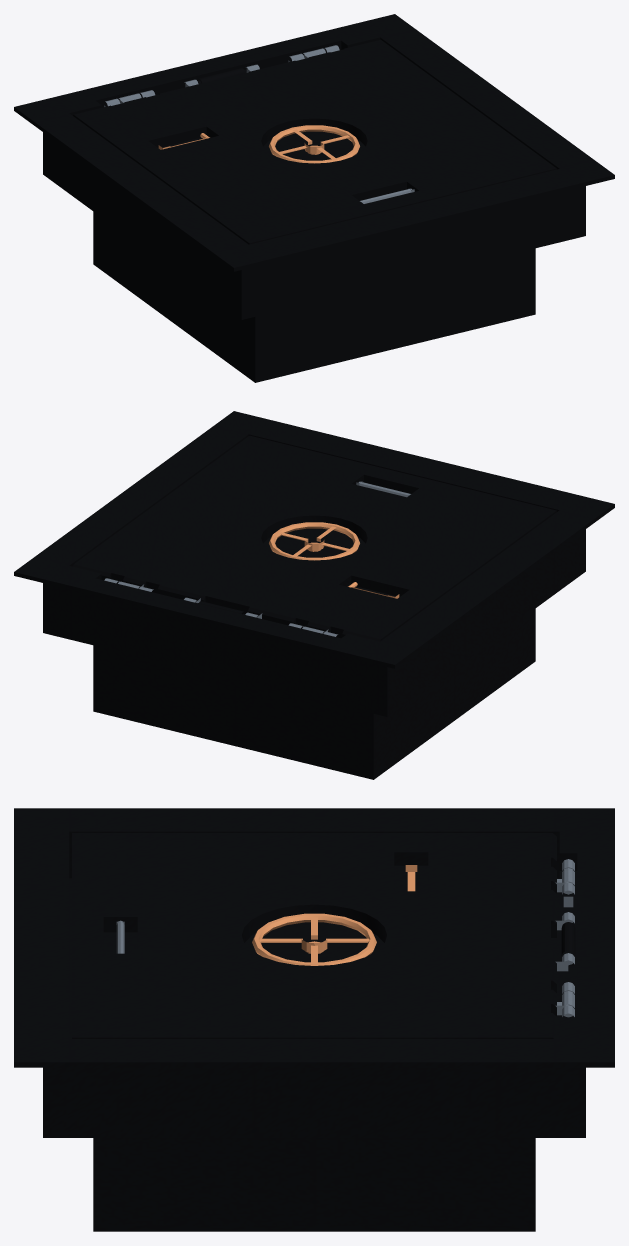
3 views of the same model, one above another, from view 1: azimuth 30°, elevation 25°; view 2: azimuth 150°, elevation 25°; view 3: azimuth 270°, elevation 25° (orthographic). The views are drawn at different scales.
Visible parts, largest first — view 1: hatch_frame, hatch_leaf_shell, hatch_OverrideOrange_Handwheel; view 2: hatch_frame, hatch_leaf_shell, hatch_OverrideOrange_Handwheel; view 3: hatch_frame, hatch_leaf_shell, hatch_OverrideOrange_Handwheel, hatch_HingeHeavy_leaf, hatch_HingeHeavy_frame.
Part boxes in pixels (x1,y1,x2,y2): hatch_frame: (14, 14, 614, 382); hatch_leaf_shell: (73, 39, 556, 244); hatch_OverrideOrange_Handwheel: (269, 125, 359, 163); hatch_frame: (14, 411, 614, 779); hatch_leaf_shell: (73, 435, 556, 641); hatch_OverrideOrange_Handwheel: (269, 522, 359, 560); hatch_frame: (14, 808, 614, 1231); hatch_leaf_shell: (72, 833, 556, 1038); hatch_OverrideOrange_Handwheel: (252, 913, 376, 965); hatch_HingeHeavy_leaf: (555, 868, 574, 1015); hatch_HingeHeavy_frame: (562, 859, 574, 1017).
Size of what is drawn, in the model's own units: 1.24 by 0.462 by 1.24.
5 materials, 3 textured.
